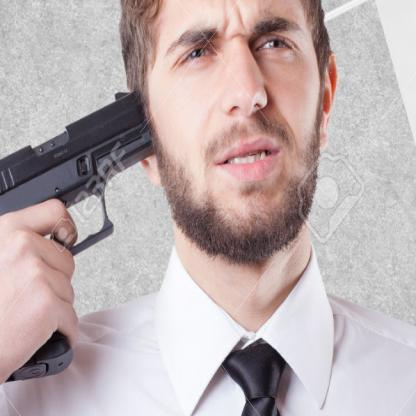gun: (0, 86, 156, 386)
